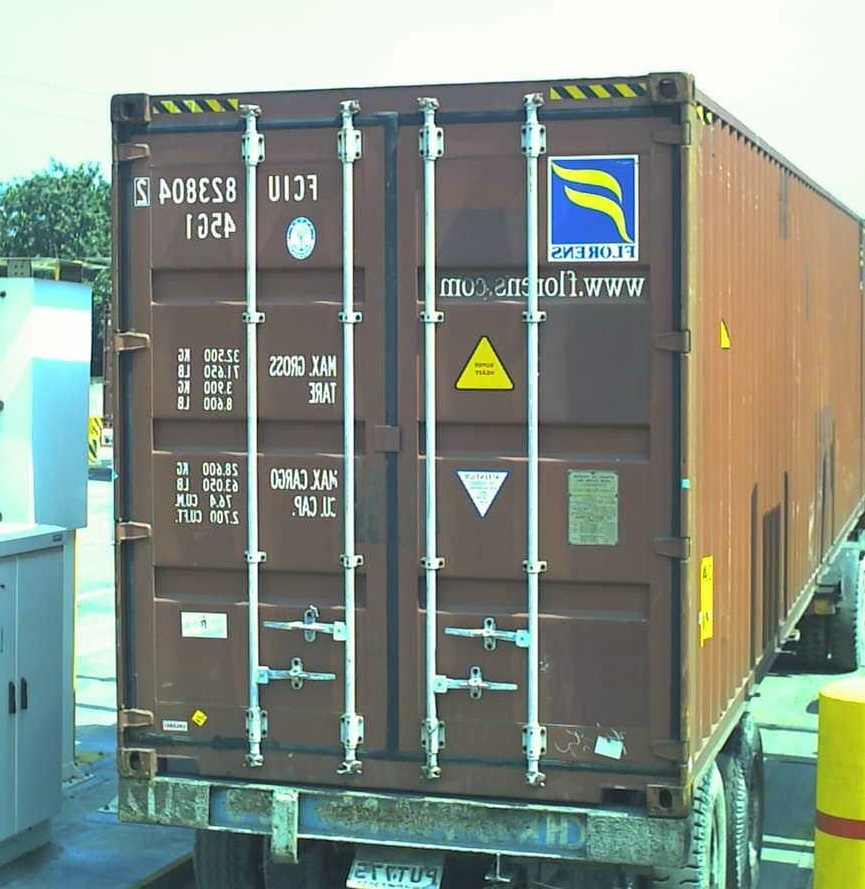container_door: (102, 70, 691, 828)
